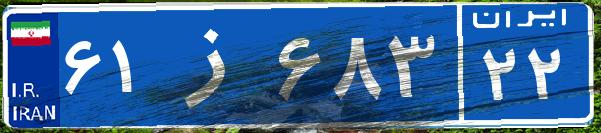1: (110, 28, 158, 105)
2: (475, 38, 525, 113), (525, 38, 570, 115)
3: (385, 28, 445, 110)
6: (273, 28, 330, 110), (57, 26, 110, 107)
8: (330, 28, 385, 110)
ز: (158, 15, 273, 115)
